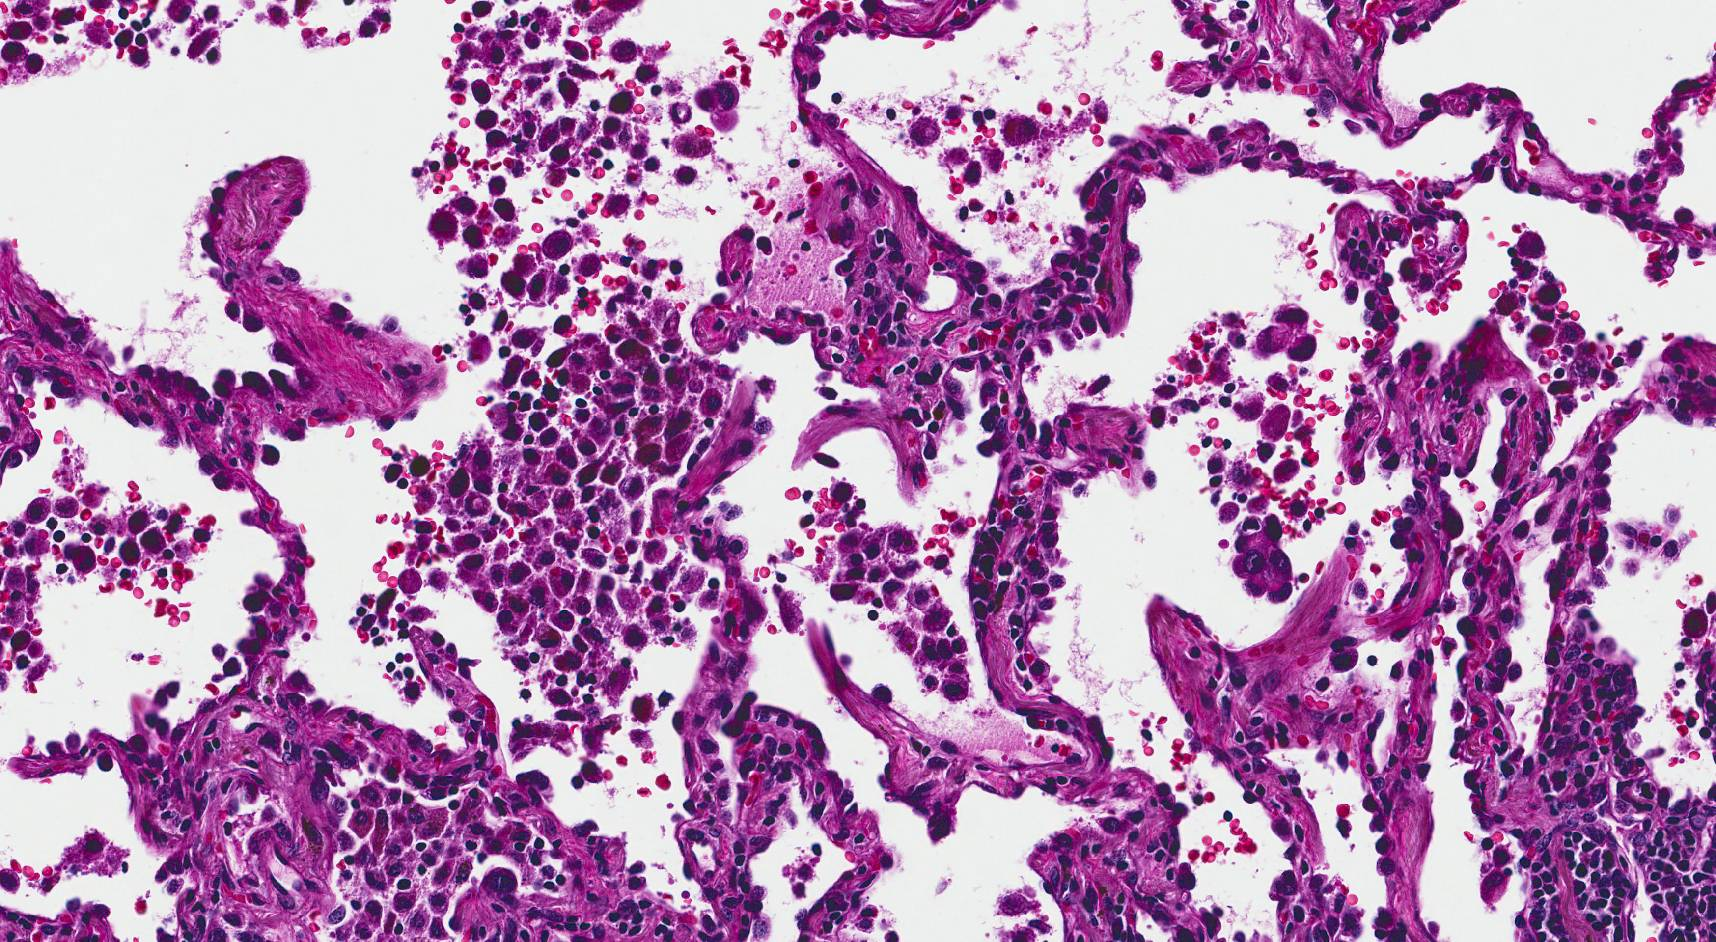stas: (1234, 516, 1296, 602), (1255, 304, 1318, 361)
